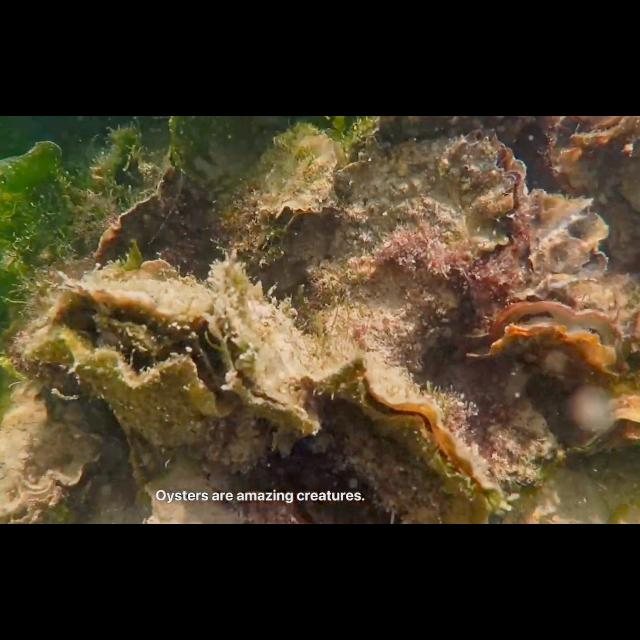Oyster-Closed: (90, 156, 208, 272)
Oyster-Open: (322, 126, 530, 374), (27, 272, 245, 452), (299, 356, 501, 524), (203, 258, 319, 440), (463, 300, 625, 390), (549, 115, 640, 264), (0, 407, 106, 525), (514, 188, 610, 302), (203, 177, 284, 267), (255, 152, 338, 230), (562, 398, 640, 462), (117, 418, 161, 514)
